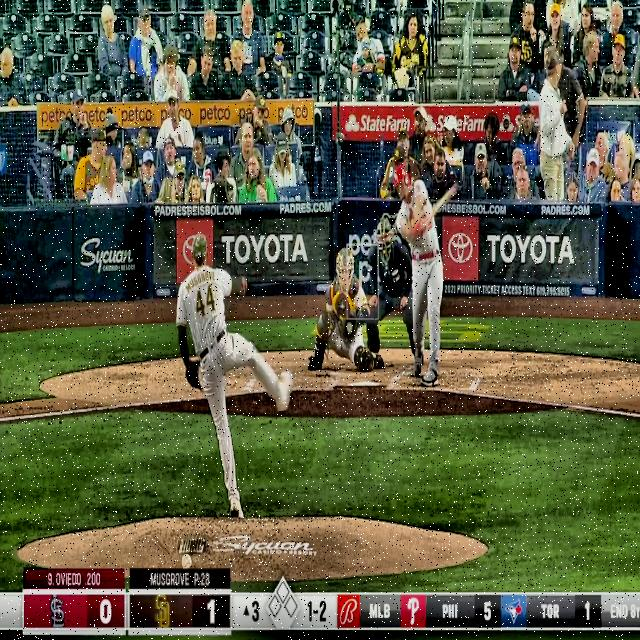baseball: (346, 320, 354, 334)
